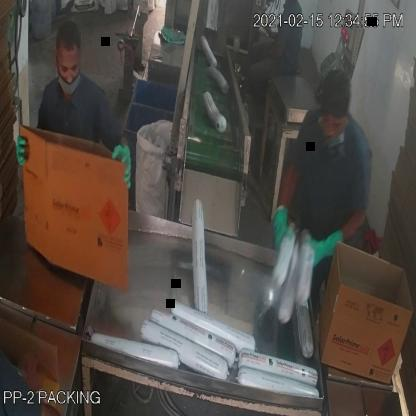glove: (303, 216, 344, 277), (262, 196, 297, 258)
